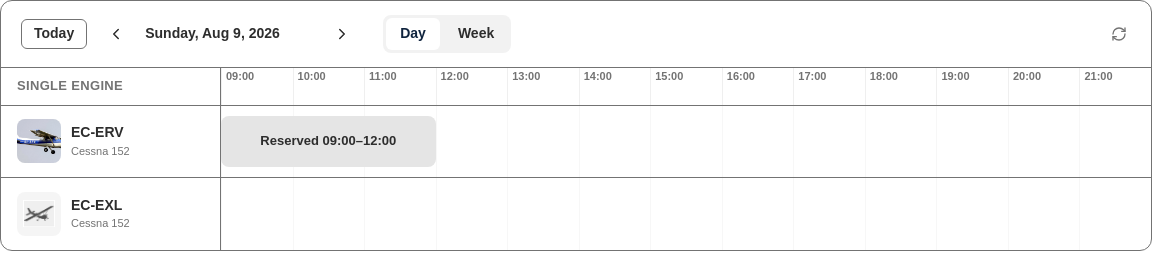
ScheduleBoard › steps the date range backward and forward in day view
Click the button named "Previous" at (116,34), box [103,21,129,47]
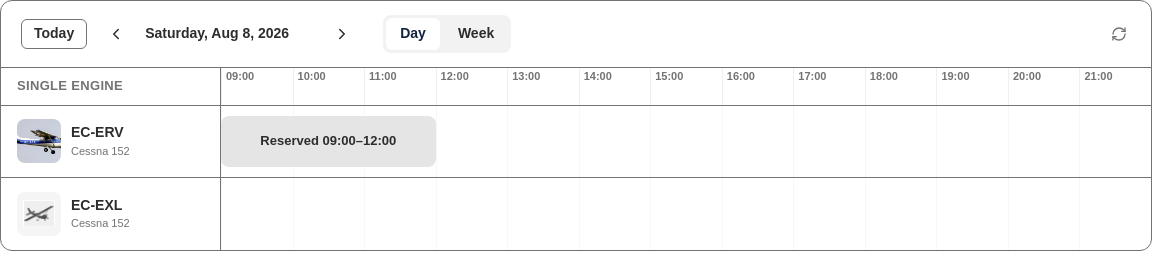
Check: the text "Saturday, Aug 8, 2026" is shown, box [145,24,313,44]
Click the button named "Next" at (342,34), box [329,21,355,47]
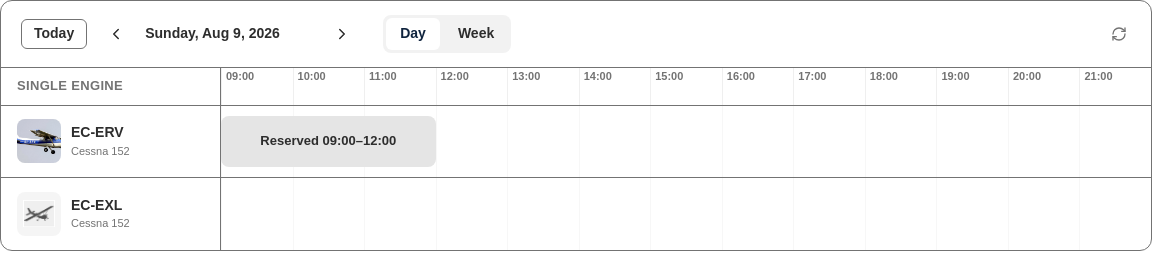
Click the button named "Next" at (342,34), box [329,21,355,47]
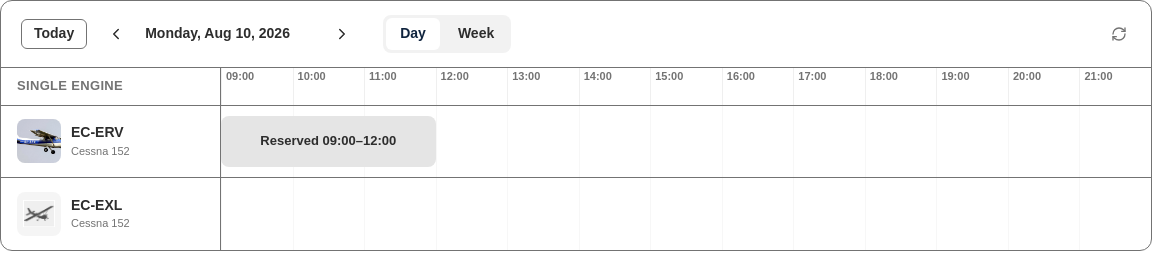
Check: the text "Monday, Aug 10, 2026" is shown, box [145,24,313,44]
